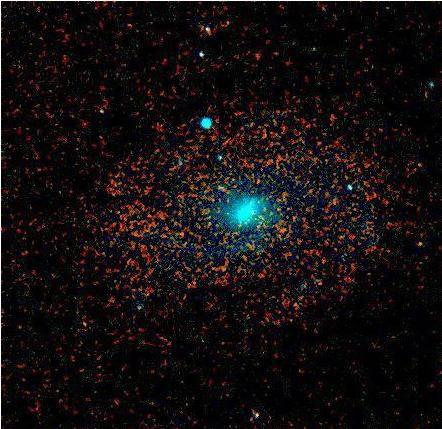star: (406, 230, 436, 260)
